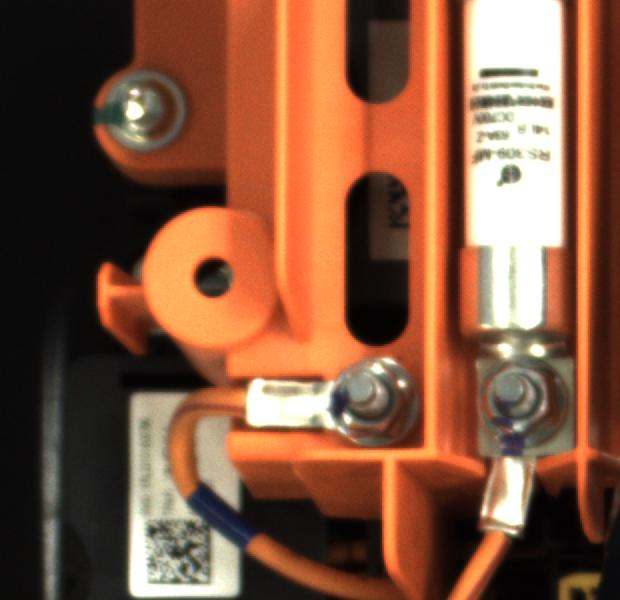screw_m: (93, 60, 205, 164)
screw_s: (316, 346, 418, 444), (472, 353, 572, 443)
